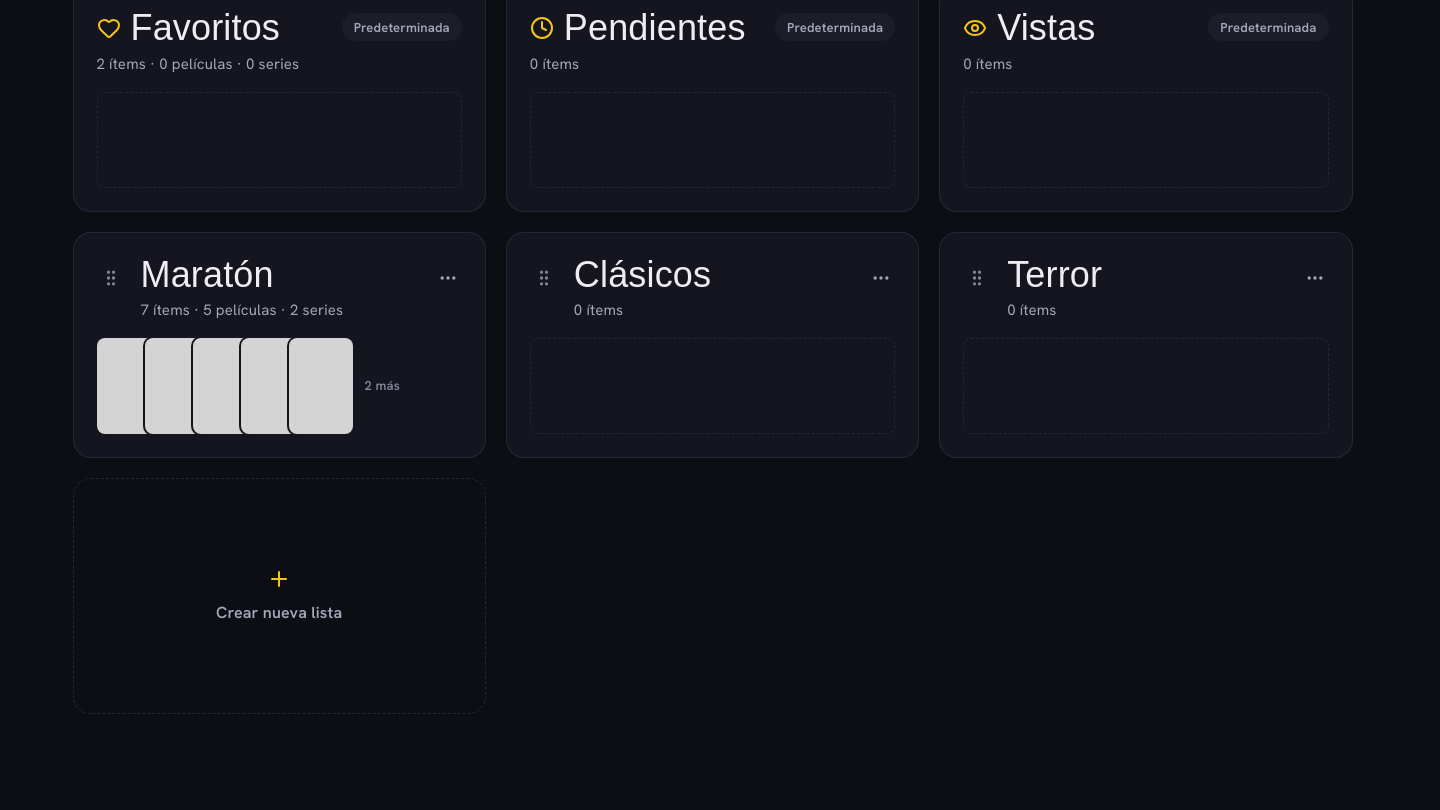
Scenario: Listas: vista general › deja el diálogo abierto con el error del backend si el nombre está repetido
(page scrolled)
Expected: the link "Maratón" is shown, [140,256,274,294]
Click the button "Crear nueva lista". click: (279, 612)
box: [72,478,486,714]
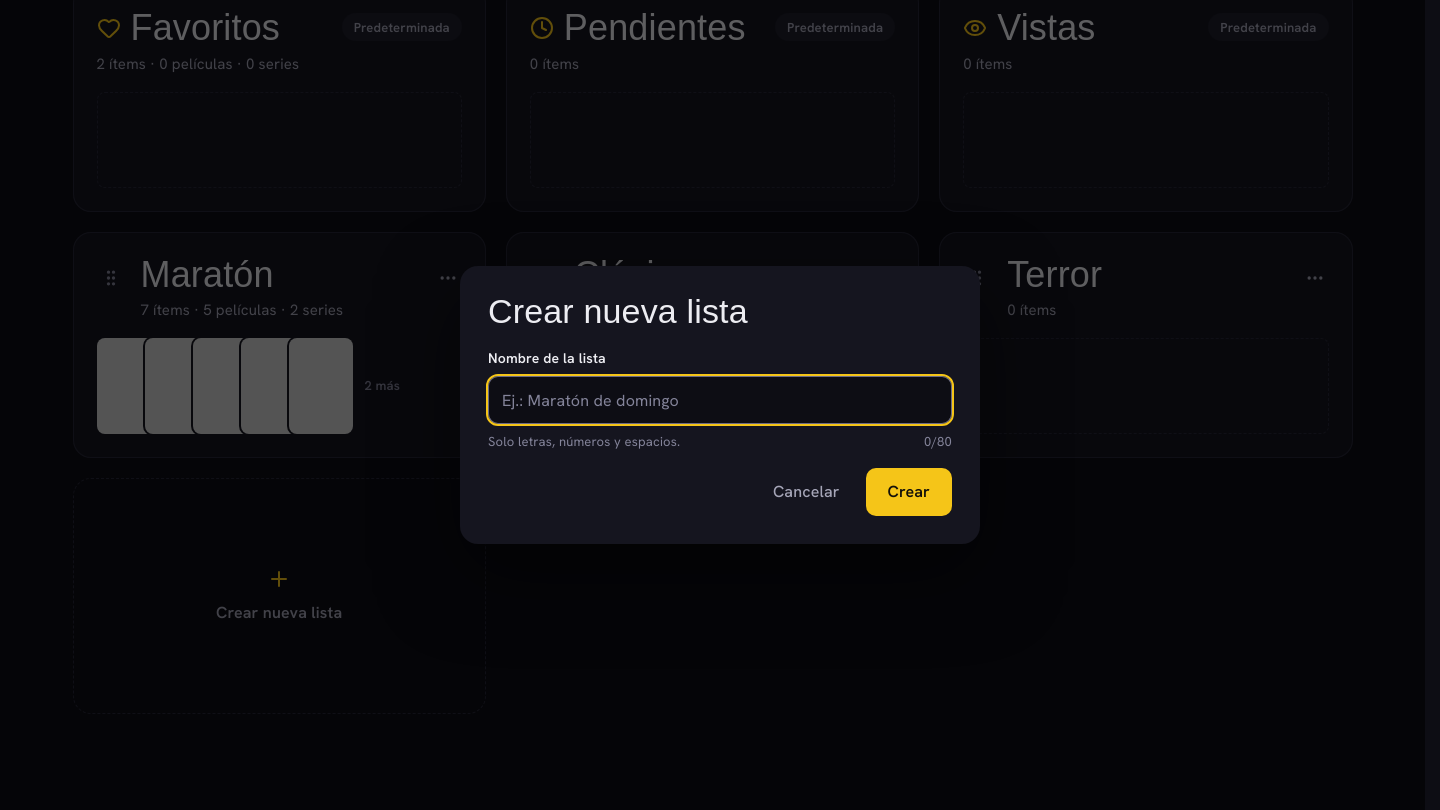
Type "Maratón" into the field labelled "Nombre de la lista". click: (720, 400)
box: [488,376,952,424]
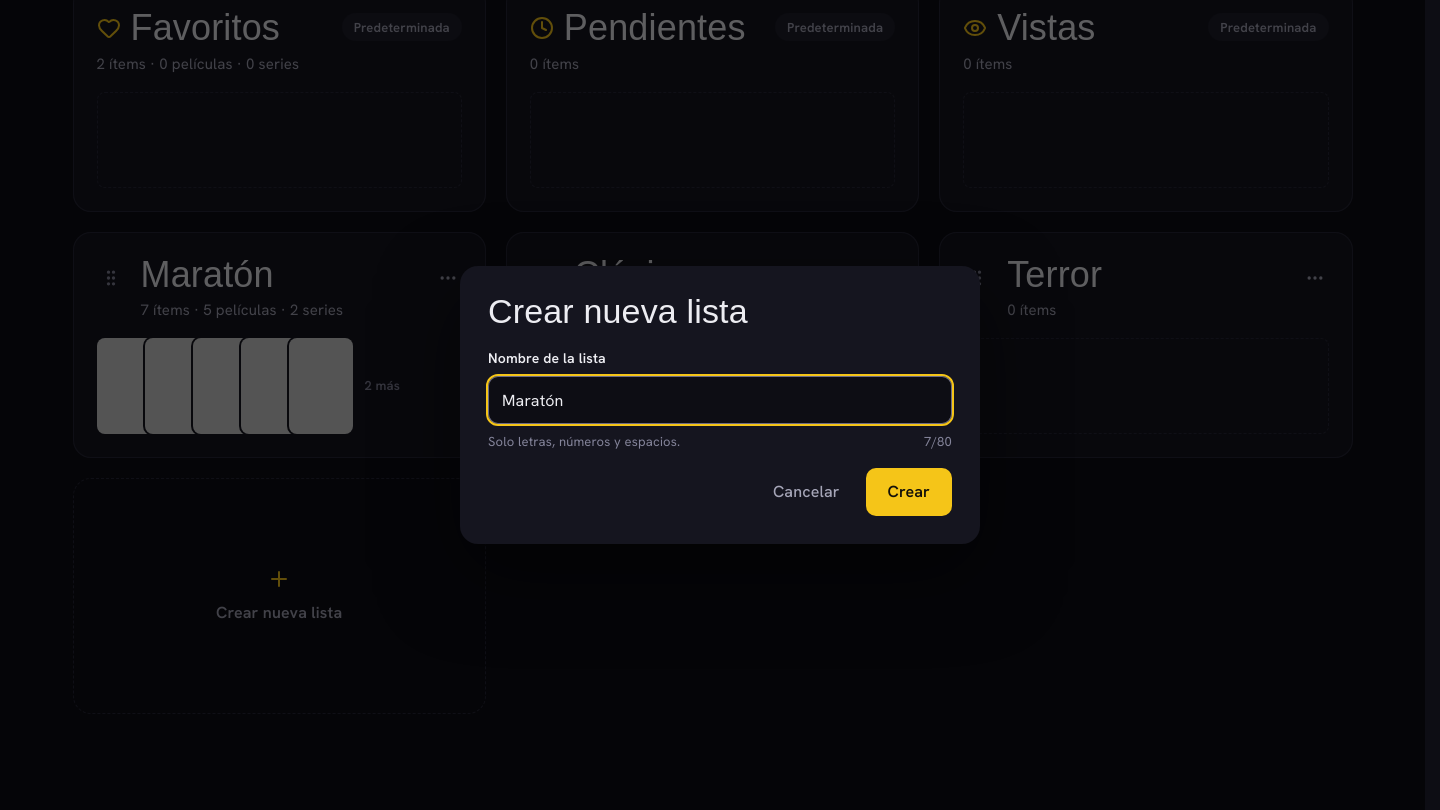
Click the button "Crear". click: (909, 492)
box: [866,468,952,516]
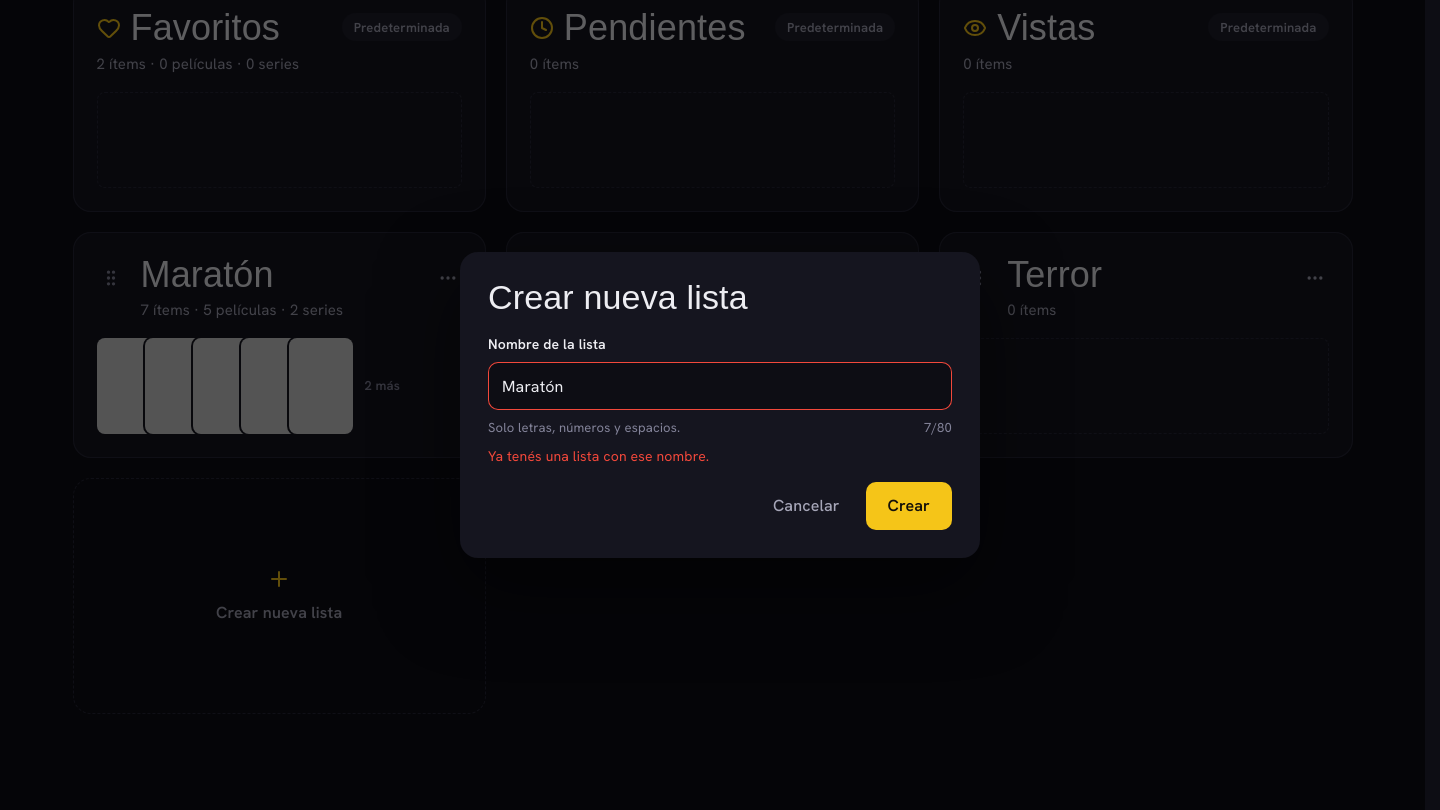
Now the dialog "Crear nueva lista" is shown, box [460,252,980,558]
Now the message reads "Ya tenés una lista con ese nombre.", box [488,447,709,465]
